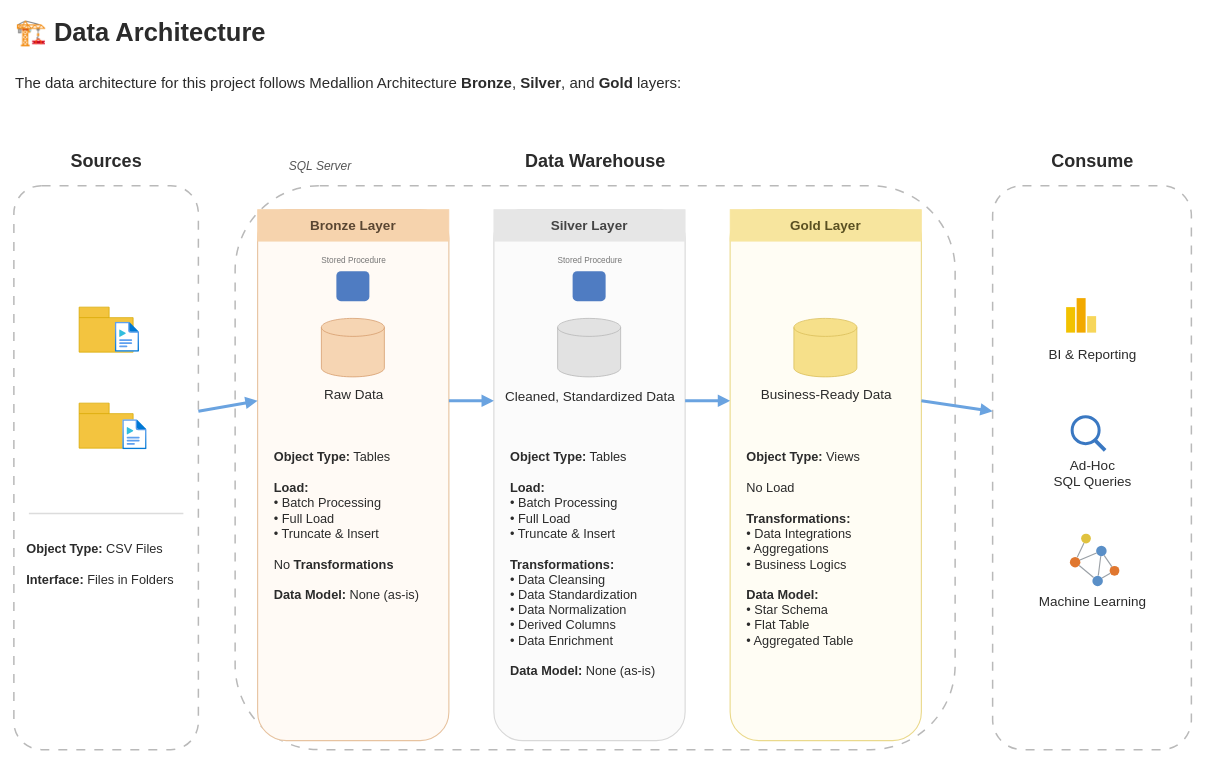
Some shapes in this 1205 by 763 pixel diagram are drawn without their labels. Each missing label, with the box of its shape:
CRM: (78, 306, 133, 352)
ERP: (78, 402, 133, 448)
